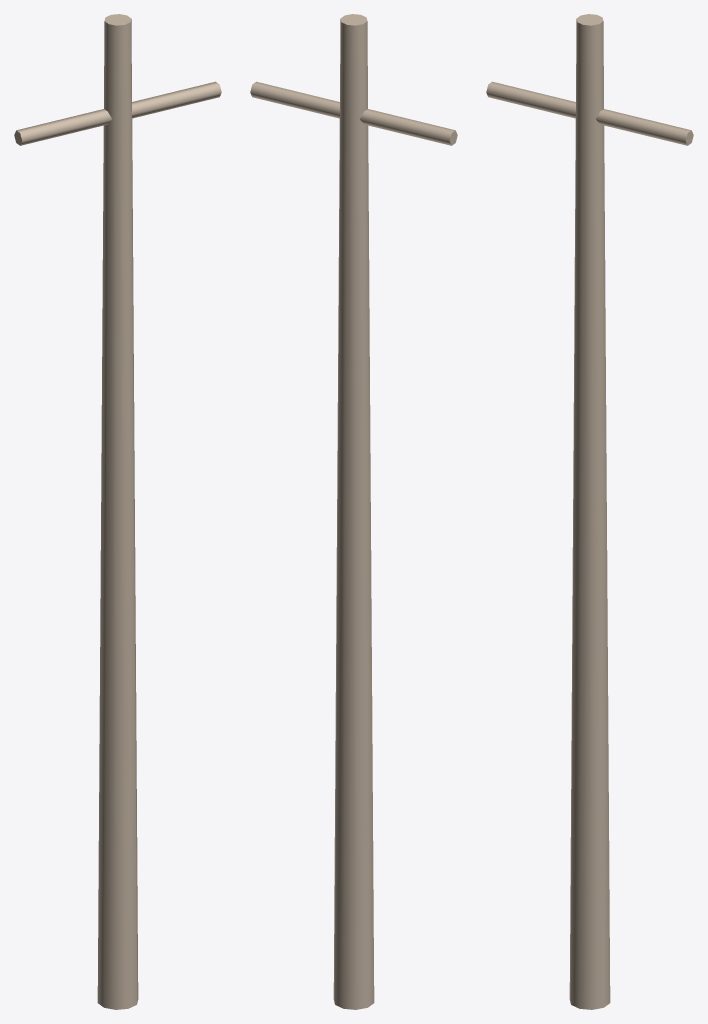
File: HarborFlagPole.gltf
3 views of the same model, side by side, from view 1: azimuth 30°, elevation 25°; view 2: azimuth 150°, elevation 25°; view 3: azimuth 330°, elevation 25° (orthographic).
Visible parts, largest first — view 1: HarborFlagPole; view 2: HarborFlagPole; view 3: HarborFlagPole.
Part boxes in pixels (x1,y1,x2,y2): HarborFlagPole: (14,14,221,1009); HarborFlagPole: (250,14,457,1009); HarborFlagPole: (486,14,693,1009).
Bounding box in the file's own units: 1 × 4.7 × 0.18.
